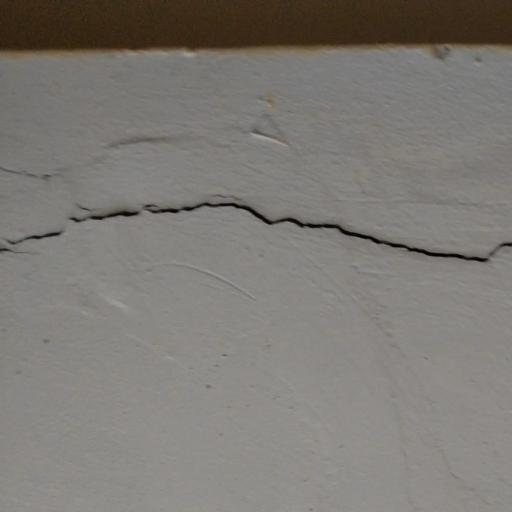major_crack: (0, 148, 512, 284)
